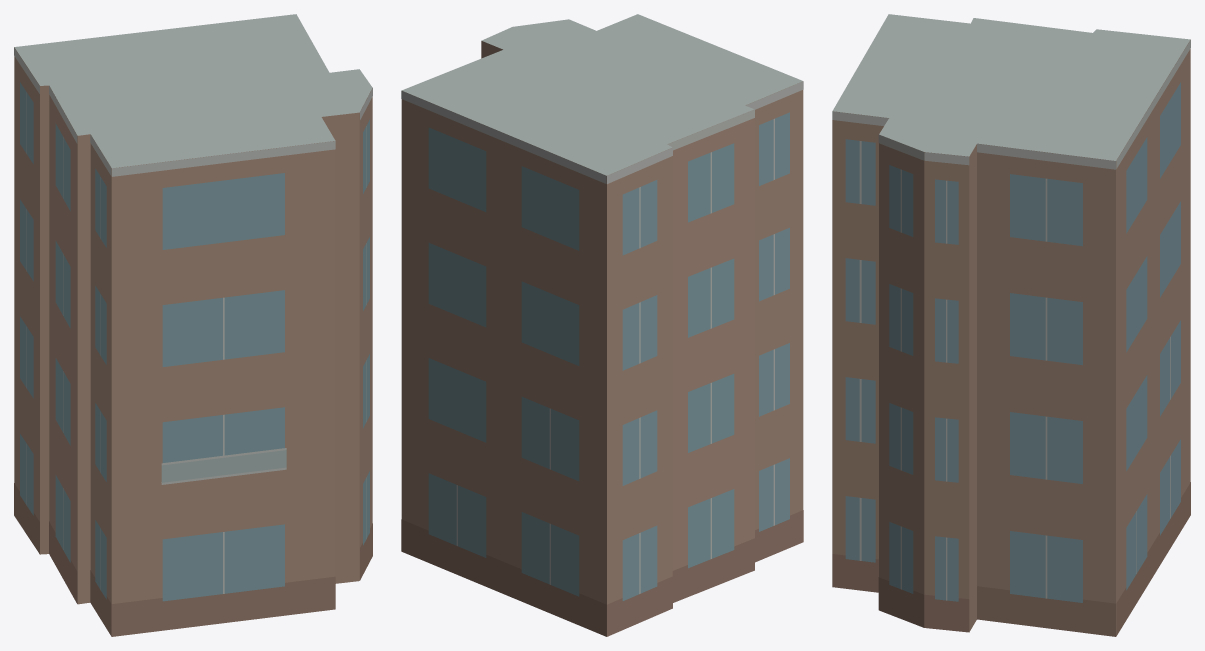
File: survey-upis-32471761.glb
3 views of the same model, side by side, from view 1: azimuth 30°, elevation 25°; view 2: azimuth 150°, elevation 25°; view 3: azimuth 270°, elevation 25° (orthographic). The views are drawn at different scales.
Visible parts, largest first — view 1: survey-upis-32471761.tmp; view 2: survey-upis-32471761.tmp; view 3: survey-upis-32471761.tmp.
Part boxes in pixels (<box>): survey-upis-32471761.tmp: <box>14,14,372,636</box>; survey-upis-32471761.tmp: <box>401,14,803,636</box>; survey-upis-32471761.tmp: <box>832,14,1190,636</box>.
Bounding box in the file's own units: 8.82 × 13.29 × 9.08.
